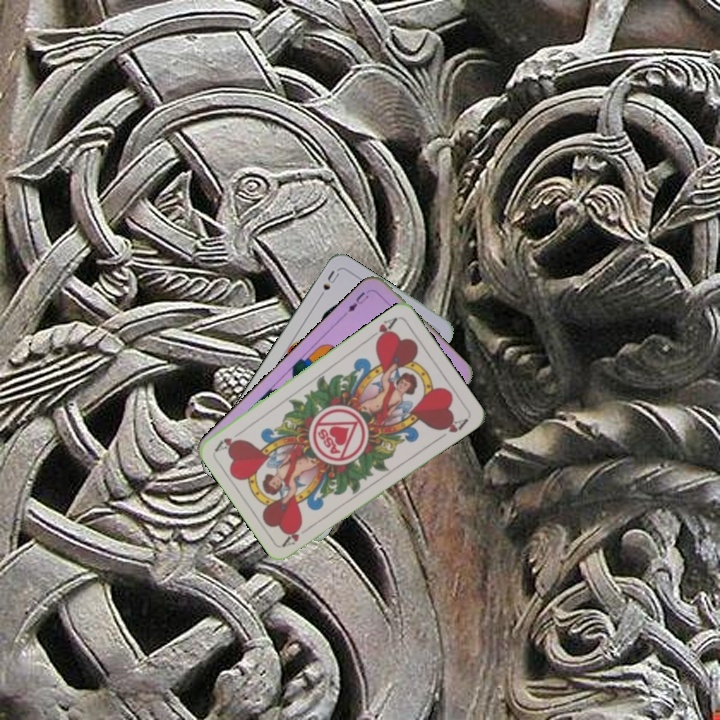EU: (341, 287, 371, 318)
HA: (365, 313, 400, 345), (279, 521, 315, 549)
SU: (313, 266, 342, 303)
